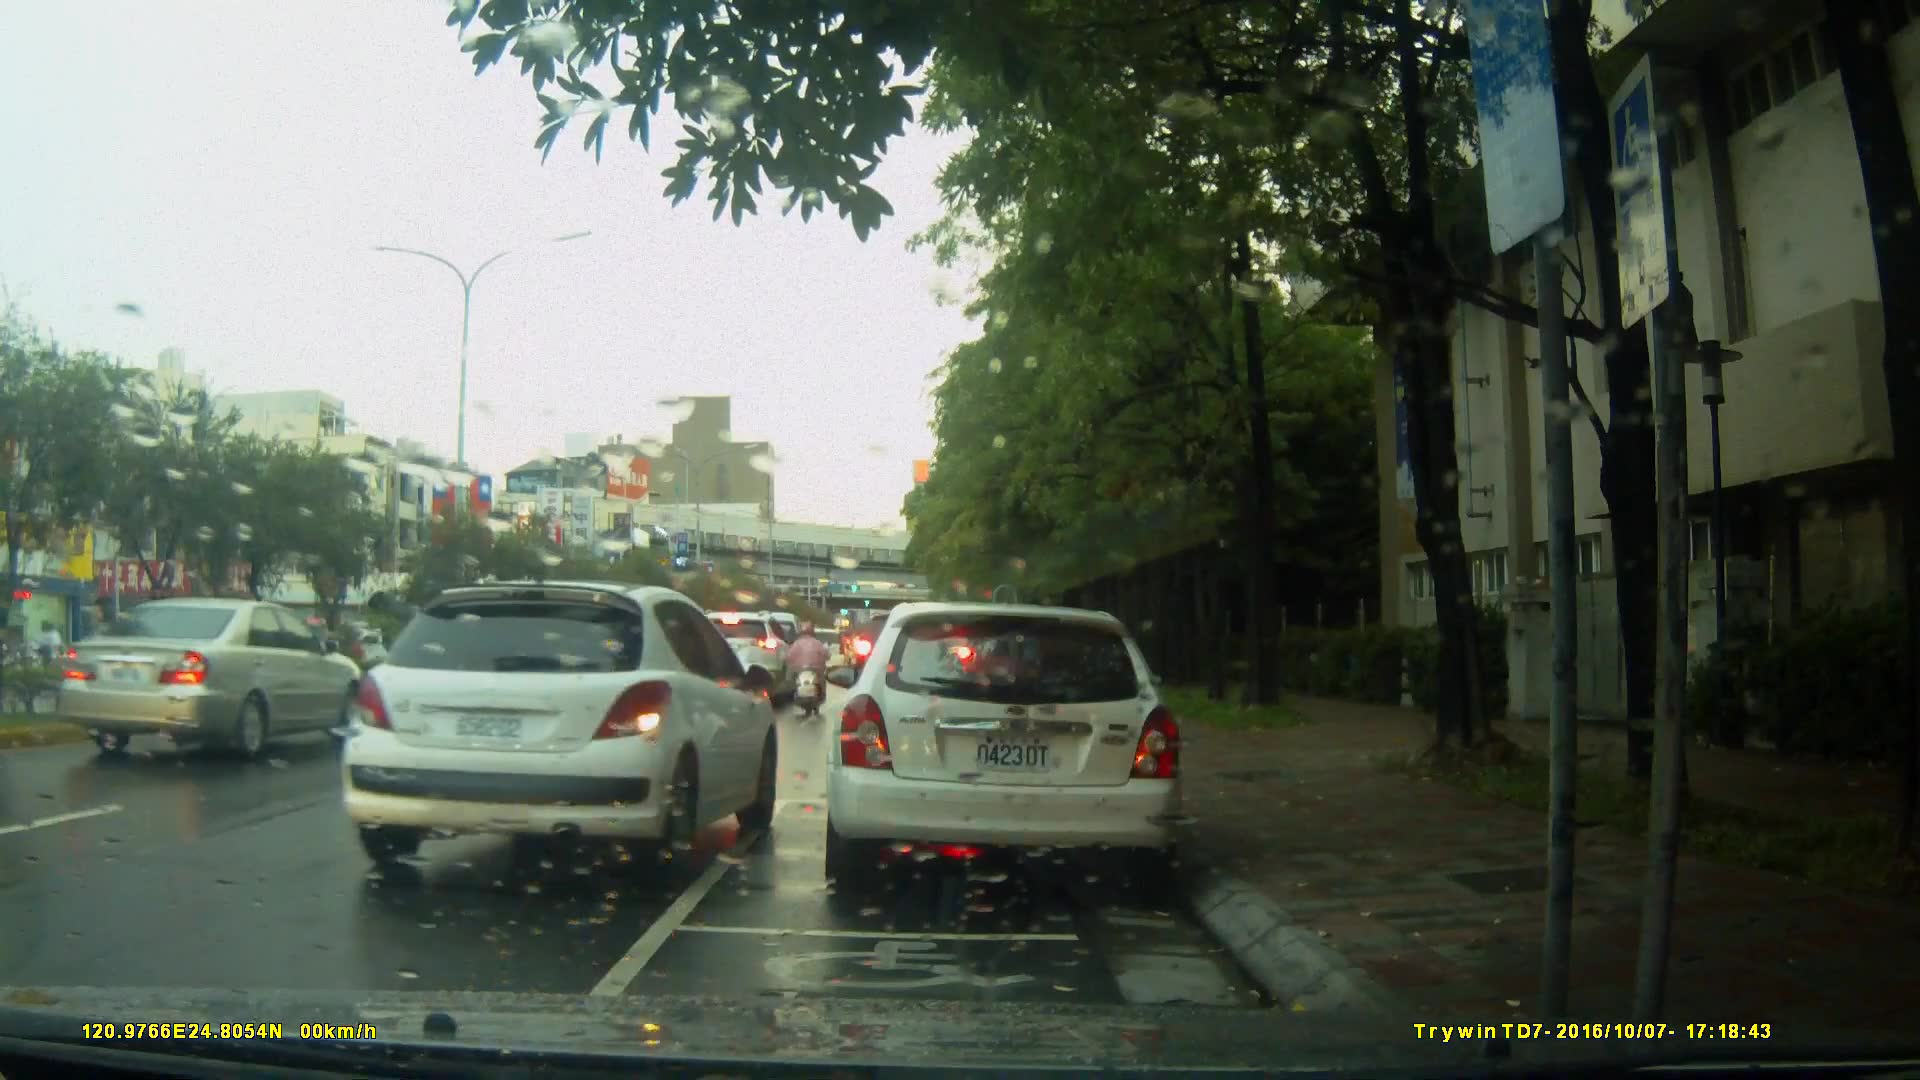rider: (788, 616, 828, 720)
vehicle: (331, 577, 787, 883), (820, 602, 1188, 898), (41, 596, 367, 766), (675, 610, 795, 708)
